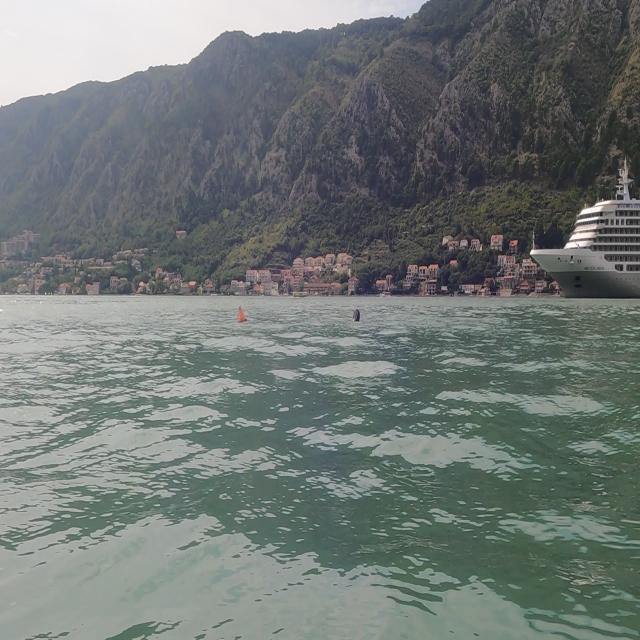boat: (528, 152, 638, 301)
buoy: (345, 299, 368, 337), (230, 293, 252, 330)
